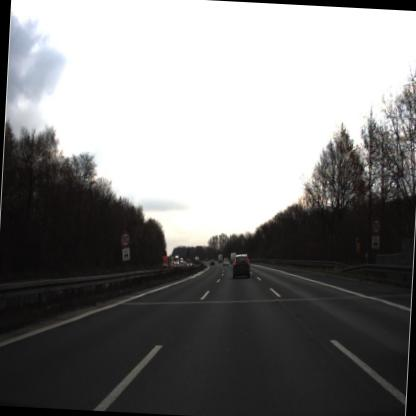prohibitory: (366, 214, 384, 237), (118, 230, 132, 248)
